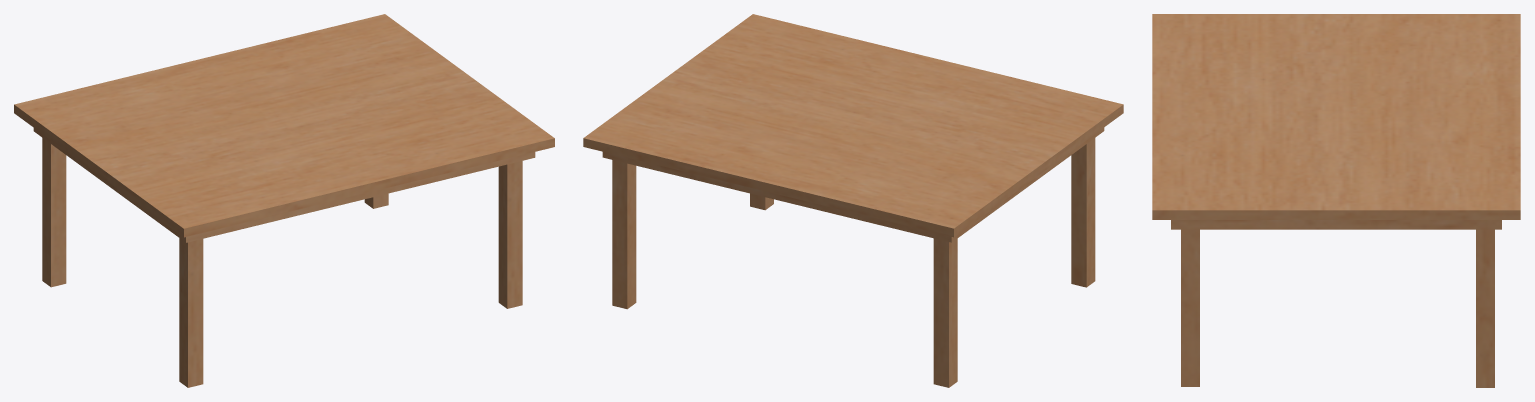
File: table_small.fbx
3 views of the same model, side by side, from view 1: azimuth 30°, elevation 25°; view 2: azimuth 150°, elevation 25°; view 3: azimuth 270°, elevation 25° (orthographic). The views are drawn at different scales.
Parts seen in each view (by area): view 1: Cube; view 2: Cube; view 3: Cube.
Boxes of the visible parts, left/top/right/bottom form: Cube: left=14, top=14, right=554, bottom=387; Cube: left=583, top=14, right=1123, bottom=387; Cube: left=1152, top=14, right=1520, bottom=387.
Size of the model in its own units: 200 by 88.62 by 159.
